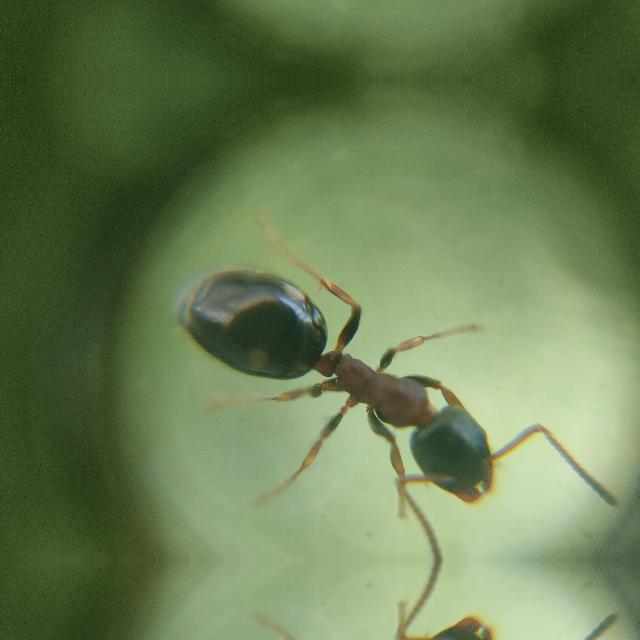Dolichoderus: (171, 239, 565, 521)
